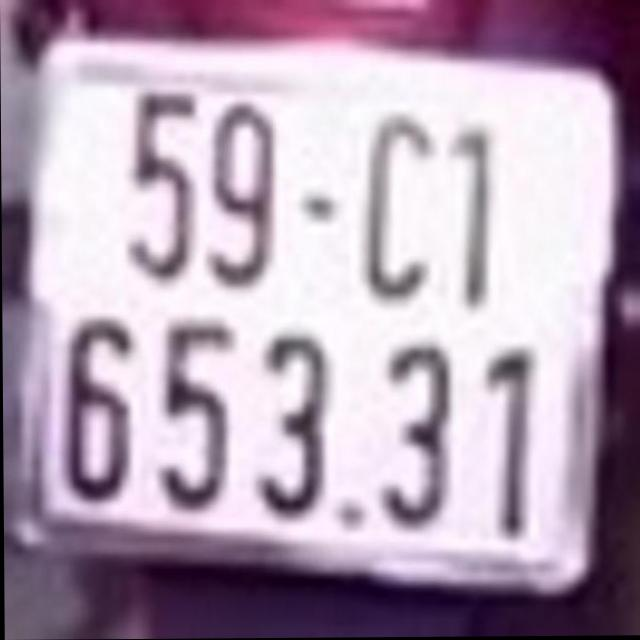1: (485, 351, 532, 534), (447, 127, 489, 310)
3: (385, 342, 447, 526), (263, 334, 326, 515)
5: (131, 92, 195, 277), (164, 324, 225, 508)
6: (67, 319, 132, 503)
9: (211, 101, 275, 289)
C: (365, 114, 435, 297)
